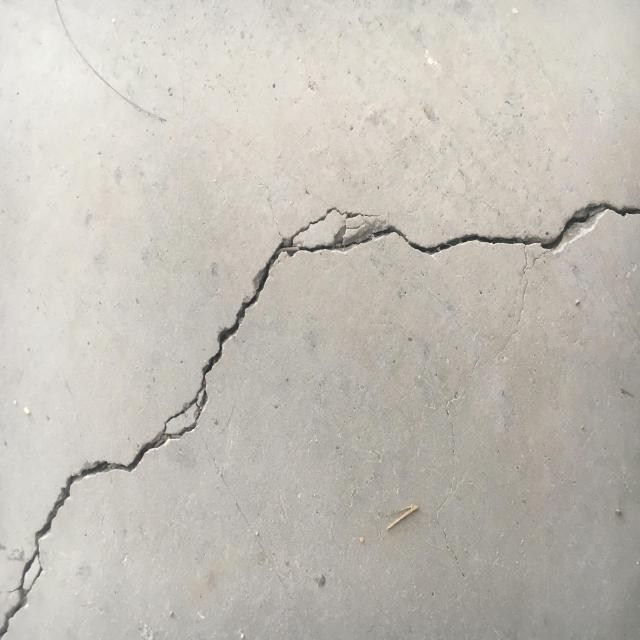Rachadura: (0, 191, 640, 640)
